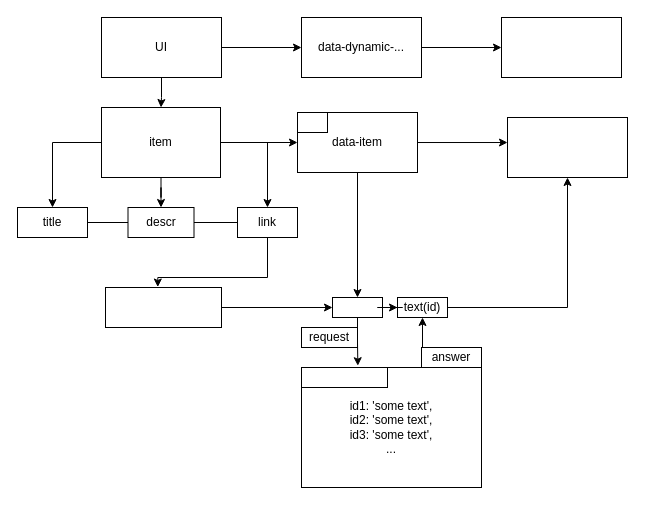
Some shapes in this 645 by 505 pixel diagram are drawn without their labels. The centre of each missing label's shape, as x and y in pixels:
"click(id)" belongs at point (357, 307).
"data-dynamic-name" belongs at point (163, 307).
"html <App/>" belongs at point (567, 147).
"id" belongs at point (312, 122).
"JS render" belongs at point (561, 47).
"object with text" belongs at point (344, 377).
